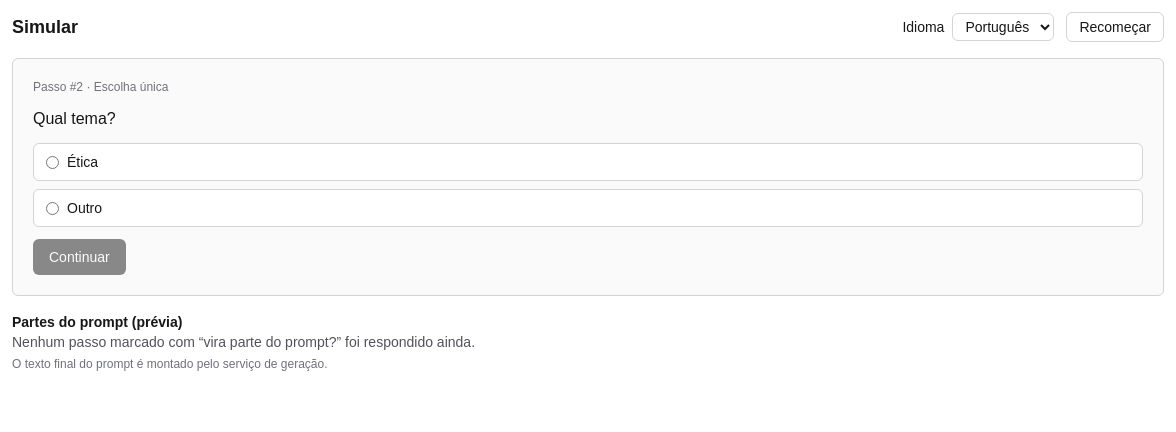
Test: FlowSimulator › shows the selected option's tip, over the info flag tip
Expected: the text "consentimento" is not shown
Click the radio button labelled "Ética": (52, 162) x1=46 y1=156 x2=59 y2=168
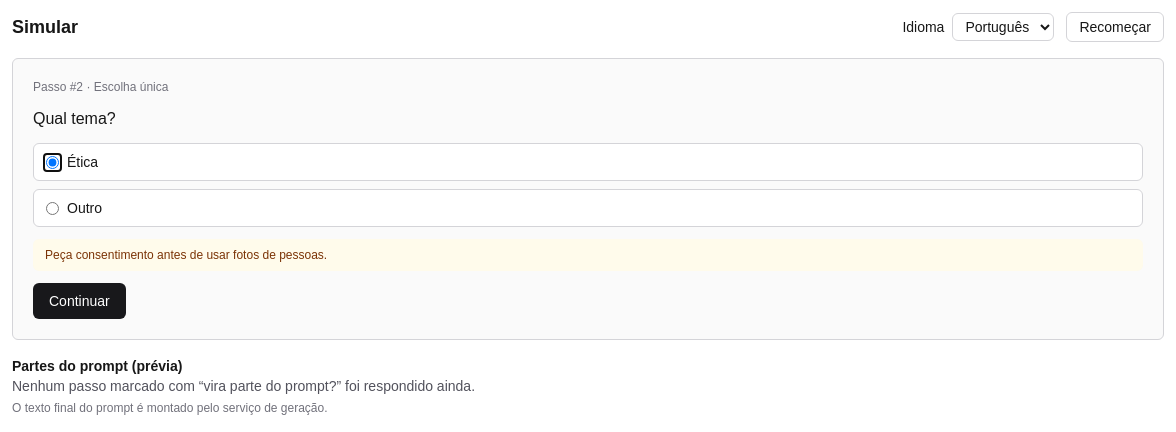
Result: the text "Peça consentimento antes de usar fotos de pessoas." is shown at x1=45 y1=248 x2=327 y2=262
Click the radio button labelled "Outro": (52, 208) x1=46 y1=202 x2=59 y2=214
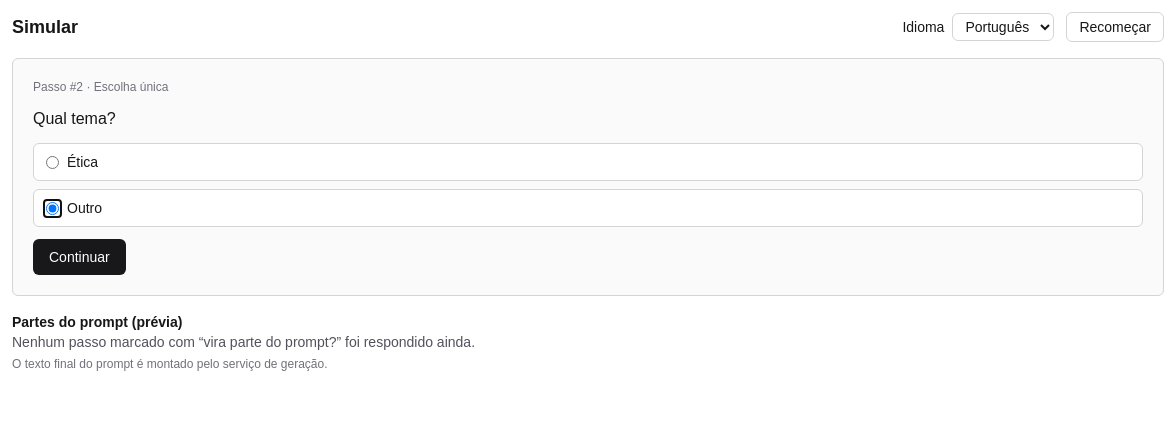
Result: the text "consentimento" is gone
